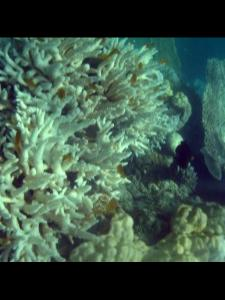bleached_corals: (0, 39, 188, 262), (200, 59, 225, 178)
